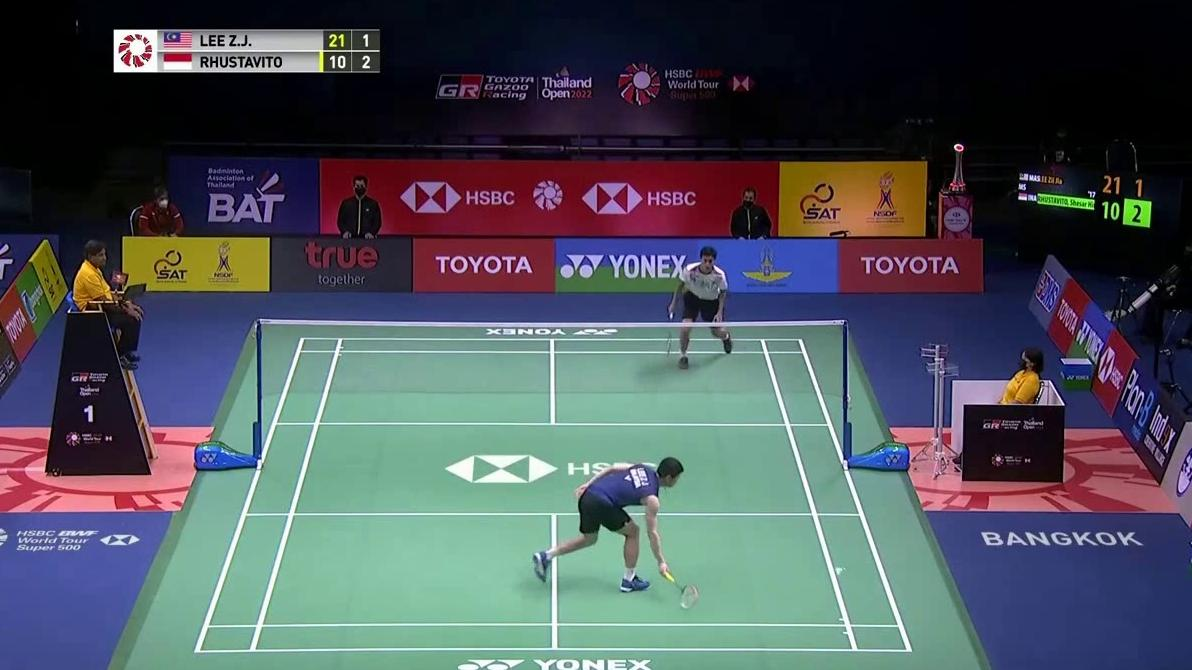racket: (660, 568, 698, 609), (667, 307, 674, 354)
shuttle: (835, 566, 846, 576)
